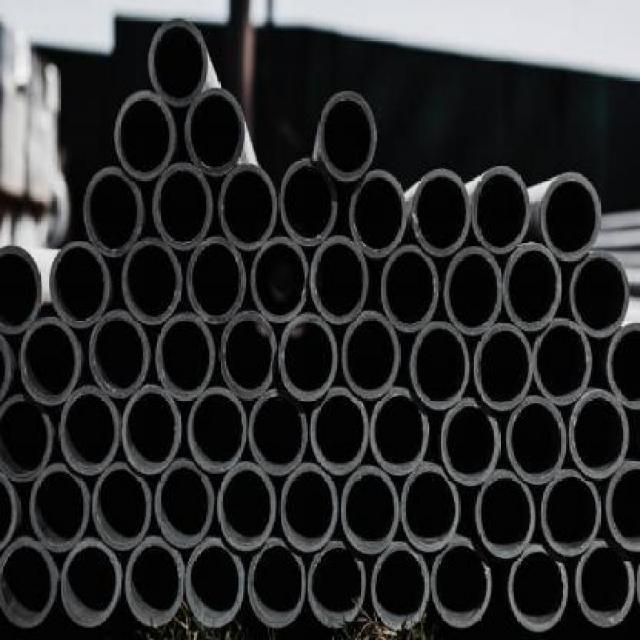pipe: (58, 387, 120, 476), (475, 470, 537, 559), (433, 539, 493, 630), (89, 311, 151, 399), (20, 317, 82, 405), (218, 462, 277, 553), (186, 537, 245, 628), (85, 168, 145, 257), (279, 313, 339, 402), (411, 322, 471, 411), (569, 391, 629, 480), (506, 396, 566, 485), (156, 459, 216, 548), (29, 463, 89, 552), (125, 539, 185, 628), (62, 539, 122, 628), (149, 19, 209, 108), (186, 88, 246, 177), (116, 91, 176, 180), (49, 242, 111, 328), (154, 163, 214, 251), (542, 174, 602, 262), (571, 251, 631, 339), (474, 323, 534, 411), (440, 399, 500, 487), (93, 463, 153, 551), (400, 465, 460, 553), (542, 469, 602, 557), (508, 545, 568, 633), (123, 385, 182, 474), (371, 387, 430, 476), (317, 93, 376, 182), (278, 159, 337, 247), (218, 163, 277, 251), (472, 166, 531, 254), (309, 237, 368, 325), (503, 243, 562, 331), (218, 311, 277, 399), (534, 319, 593, 407), (308, 542, 367, 630), (371, 543, 430, 631), (413, 170, 471, 259), (445, 247, 503, 336), (280, 463, 338, 552), (0, 537, 58, 626), (123, 239, 183, 325), (156, 313, 216, 399), (576, 542, 636, 628), (350, 171, 408, 259), (342, 466, 400, 554), (251, 237, 310, 323), (188, 237, 247, 323), (311, 388, 370, 474), (249, 390, 308, 476), (248, 539, 305, 628), (343, 311, 400, 399), (188, 388, 247, 473), (382, 246, 440, 332), (0, 394, 52, 483), (0, 245, 43, 334), (606, 460, 639, 554), (606, 322, 640, 410)
